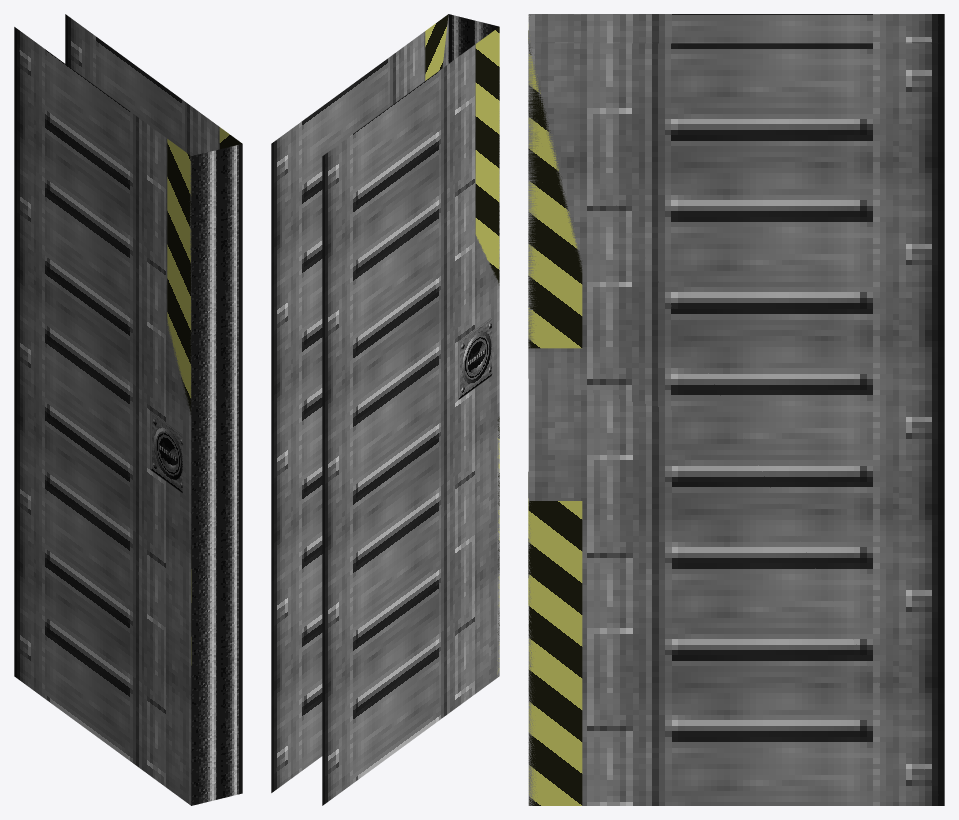
File: primary_186.glb
3 views of the same model, side by side, from view 1: azimuth 30°, elevation 25°; view 2: azimuth 150°, elevation 25°; view 3: azimuth 270°, elevation 25° (orthographic). The views are drawn at different scales.
Parts seen in each view (by area): view 1: Object; view 2: Object; view 3: Object.
Part boxes in pixels (left/top/right/bottom): Object: left=14, top=14, right=242, bottom=805; Object: left=271, top=14, right=499, bottom=805; Object: left=528, top=14, right=944, bottom=805.
Size of the model in its own units: 0.1915 by 2.32 by 1.15.
Materials: 5 (5 with a texture image).
